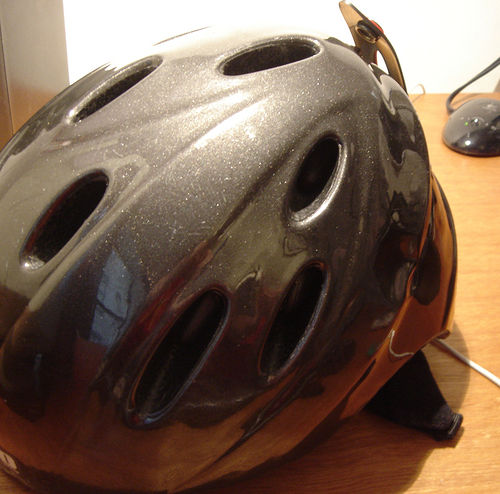helmet: (12, 24, 471, 462)
